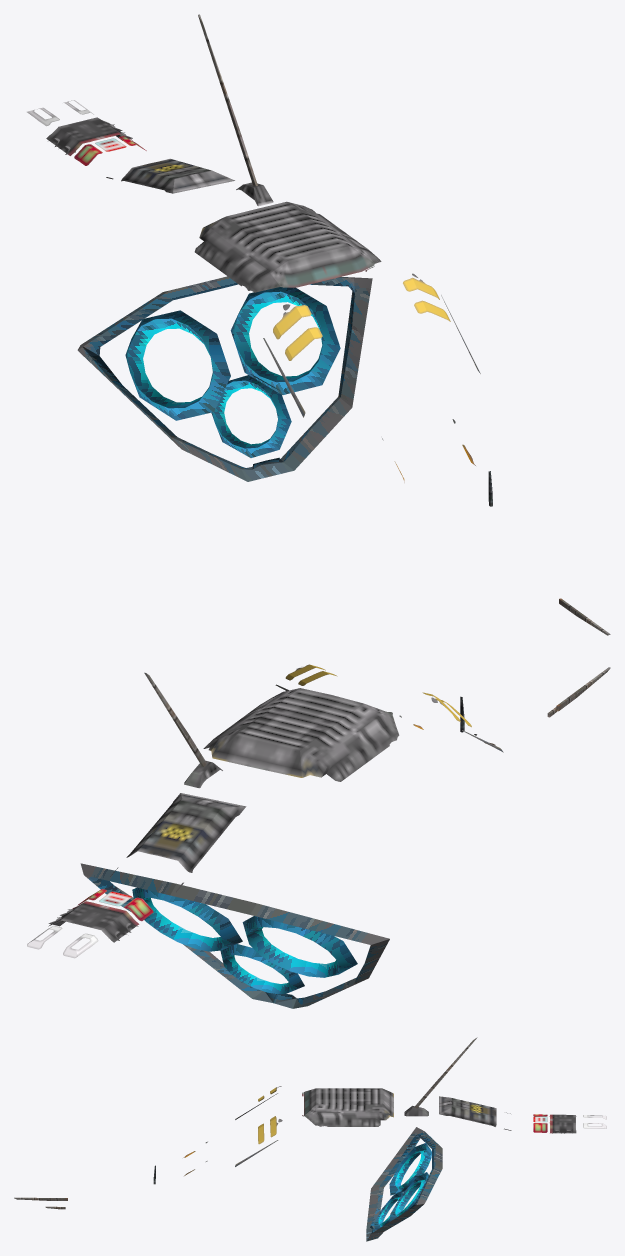
File: Goblins.obj
3 views of the same model, one above another, from view 1: azimuth 30°, elevation 25°; view 2: azimuth 150°, elevation 25°; view 3: azimuth 270°, elevation 25° (orthographic). The views are drawn at different scales.
Visible parts, largest first — view 1: burnerUV, frontUV; view 2: frontUV, burnerUV; view 3: frontUV, burnerUV.
Boxes of the visible parts, left/top/right/bottom form: burnerUV: left=77, top=276, right=372, bottom=481; frontUV: left=27, top=14, right=610, bottom=635; frontUV: left=27, top=664, right=610, bottom=958; burnerUV: left=80, top=863, right=389, bottom=1008; frontUV: left=14, top=1037, right=606, bottom=1209; burnerUV: left=366, top=1127, right=442, bottom=1241.
Bounding box in the file's own units: 6.8 × 8.35 × 21.94.
